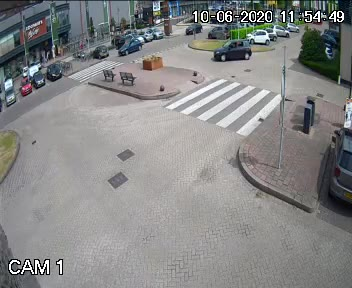car: (209, 38, 252, 64), (112, 36, 142, 54), (179, 20, 200, 36)
